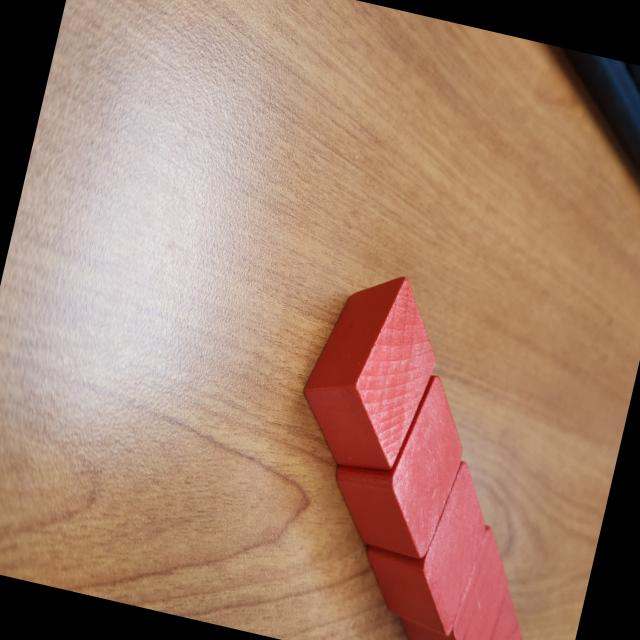red: (287, 258, 453, 481), (320, 356, 480, 562), (352, 444, 502, 637), (389, 510, 520, 640), (473, 582, 535, 640)
